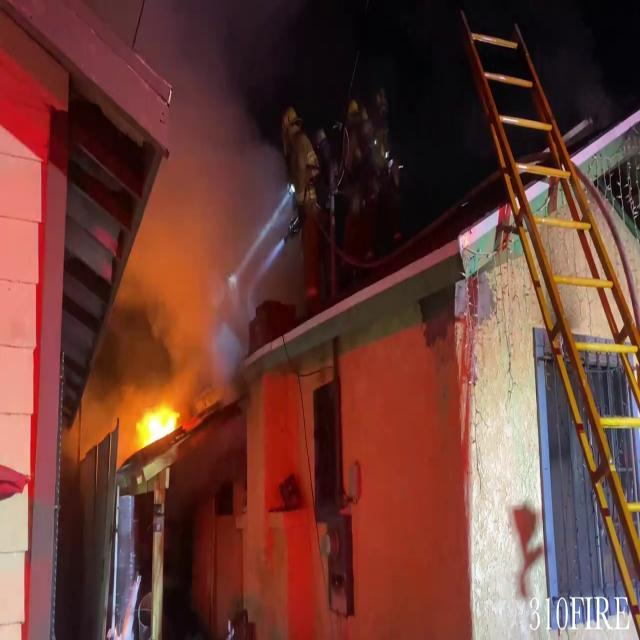Fire: (132, 396, 184, 454)
Smoke: (100, 0, 288, 366)
